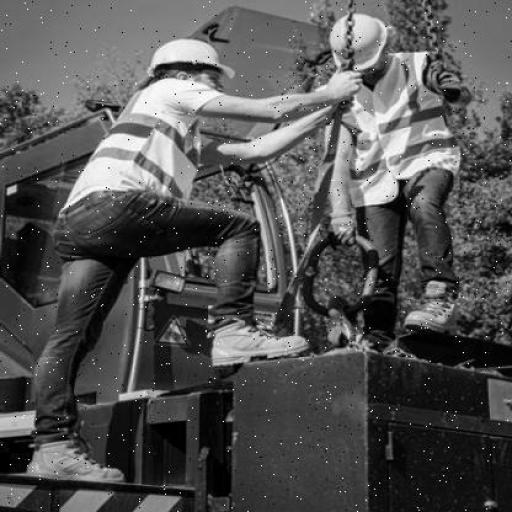person: (10, 39, 298, 506), (308, 0, 475, 353)
safety_shoe: (22, 439, 137, 488), (206, 320, 296, 364), (414, 274, 456, 340)
